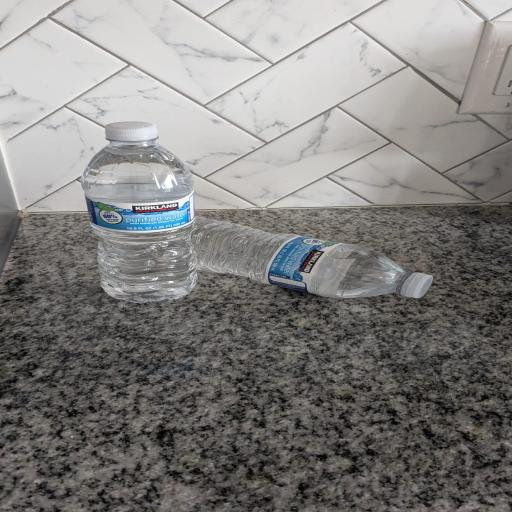waterbottle: (82, 122, 196, 302), (193, 218, 432, 298)
